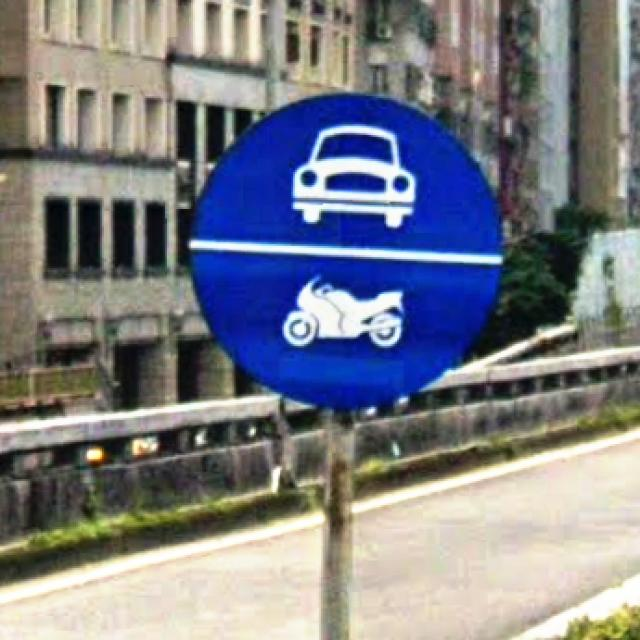carmotorcycle: (191, 94, 501, 408)
